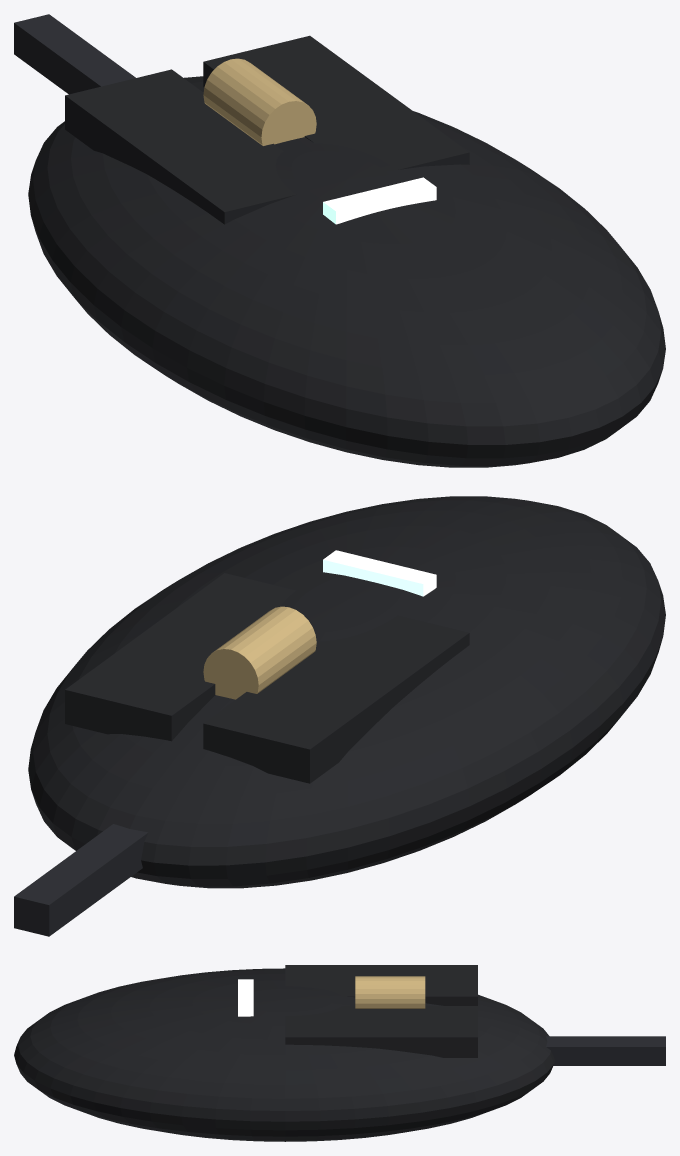
The model's file is looplings_mouse.glb.
The picture shows the model from 3 angles, top to bottom: view 1: azimuth 30°, elevation 25°; view 2: azimuth 150°, elevation 25°; view 3: azimuth 270°, elevation 25°; orthographic projection. The views are drawn at different scales.
Parts seen in each view (by area): view 1: LooplingsMouse_Body, LooplingsMouse_LeftButton, LooplingsMouse_RightButton, LooplingsMouse_ScrollWheel, LooplingsMouse_CableHint, LooplingsMouse_PrimeGlyph; view 2: LooplingsMouse_Body, LooplingsMouse_LeftButton, LooplingsMouse_RightButton, LooplingsMouse_CableHint, LooplingsMouse_ScrollWheel, LooplingsMouse_PrimeGlyph; view 3: LooplingsMouse_Body, LooplingsMouse_RightButton, LooplingsMouse_LeftButton, LooplingsMouse_CableHint, LooplingsMouse_ScrollWheel, LooplingsMouse_PrimeGlyph.
Boxes of the visible parts, box(x1,y1,x2,y2) form: LooplingsMouse_Body: box(28, 76, 665, 467); LooplingsMouse_LeftButton: box(65, 69, 296, 224); LooplingsMouse_RightButton: box(203, 35, 469, 169); LooplingsMouse_ScrollWheel: box(203, 58, 316, 145); LooplingsMouse_CableHint: box(14, 14, 135, 94); LooplingsMouse_PrimeGlyph: box(323, 177, 436, 224); LooplingsMouse_Body: box(28, 496, 665, 888); LooplingsMouse_LeftButton: box(203, 615, 469, 783); LooplingsMouse_RightButton: box(65, 573, 296, 741); LooplingsMouse_CableHint: box(14, 824, 148, 936); LooplingsMouse_ScrollWheel: box(203, 606, 316, 699); LooplingsMouse_PrimeGlyph: box(323, 550, 436, 596); LooplingsMouse_Body: box(14, 968, 554, 1141); LooplingsMouse_RightButton: box(285, 1006, 477, 1057); LooplingsMouse_LeftButton: box(285, 965, 477, 1005); LooplingsMouse_CableHint: box(546, 1036, 665, 1065); LooplingsMouse_ScrollWheel: box(355, 976, 425, 1008); LooplingsMouse_PrimeGlyph: box(238, 979, 253, 1016).
Size of the model in its own units: 0.36 by 0.167 by 0.745.
